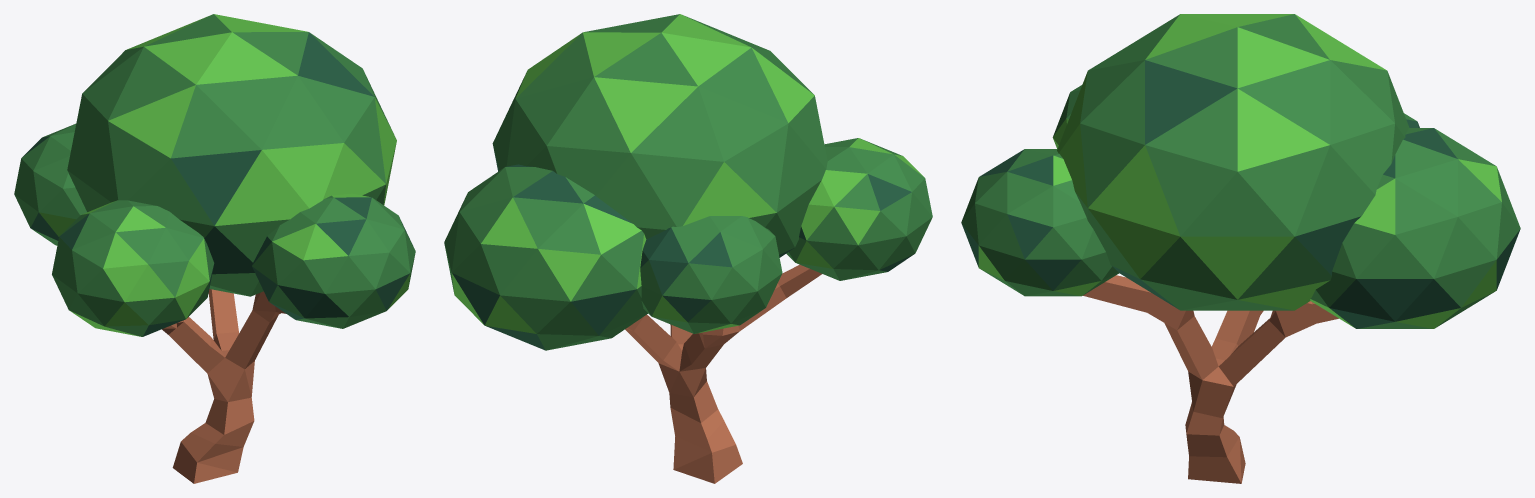
Rendered from Tree_02_1.fbx.
3 renders of one model, left to right at view 1: azimuth 30°, elevation 25°; view 2: azimuth 150°, elevation 25°; view 3: azimuth 270°, elevation 25°, orthographic. The views are drawn at different scales.
Visible parts, largest first — view 1: Tree_02 top, Tree_02 trunk; view 2: Tree_02 top, Tree_02 trunk; view 3: Tree_02 top, Tree_02 trunk.
Boxes of the visible parts, bbox=[...] form: Tree_02 top: bbox=[14, 14, 415, 462]; Tree_02 trunk: bbox=[172, 442, 243, 483]; Tree_02 top: bbox=[444, 14, 932, 452]; Tree_02 trunk: bbox=[673, 436, 742, 483]; Tree_02 top: bbox=[961, 14, 1520, 457]; Tree_02 trunk: bbox=[1188, 437, 1245, 483].
Size of the model in its own units: 480 by 559 by 608.
